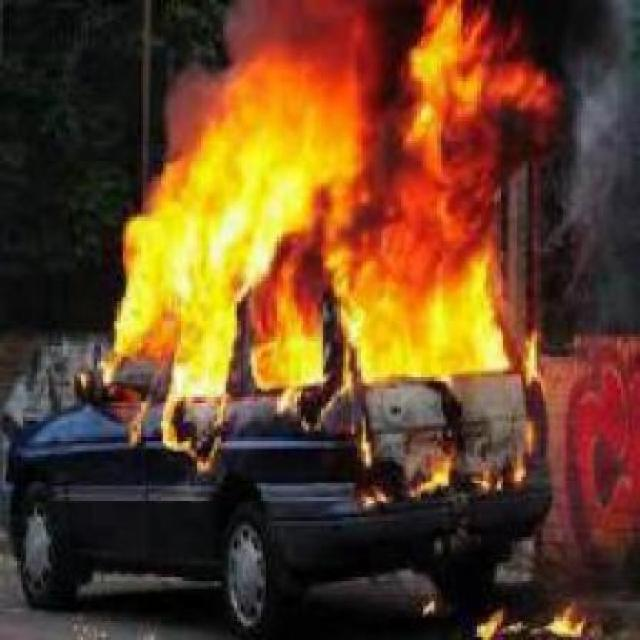Fire: (114, 0, 560, 386), (159, 394, 224, 456), (474, 606, 586, 640), (410, 449, 450, 499)
